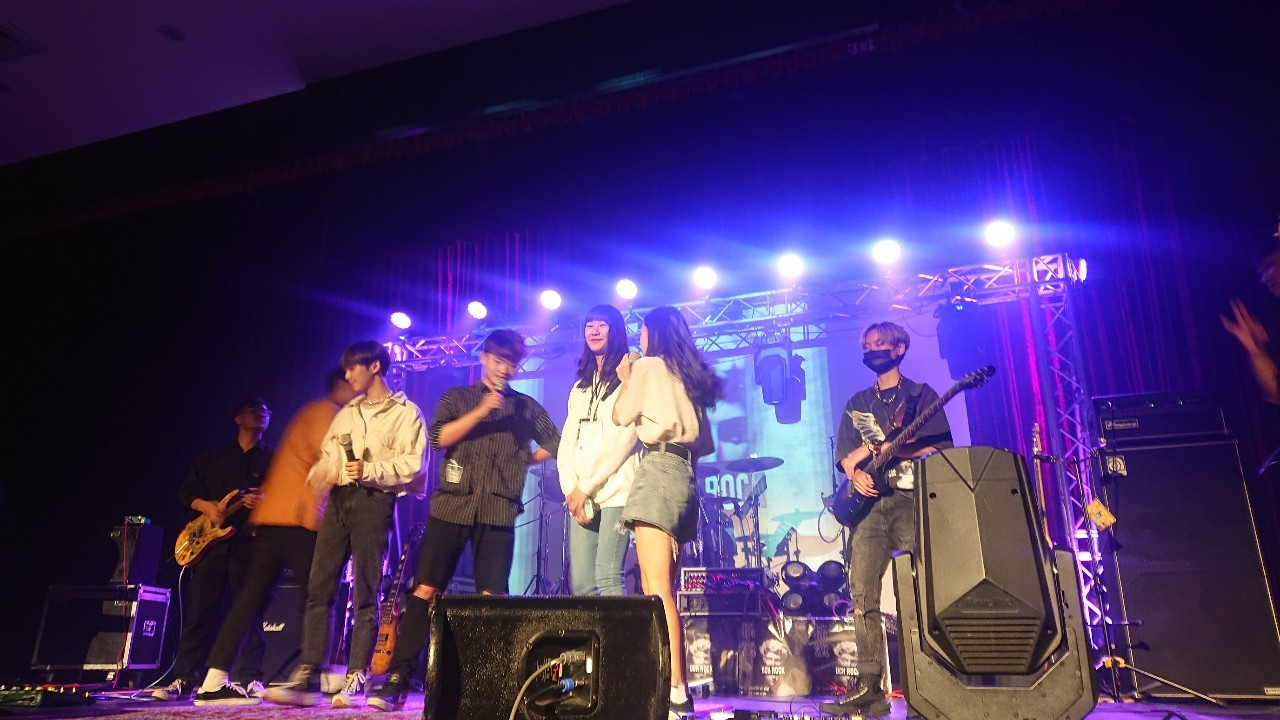people: (831, 320, 946, 713), (620, 311, 709, 713), (431, 326, 544, 587), (322, 347, 398, 704), (566, 306, 633, 598), (268, 369, 320, 687), (208, 384, 271, 567)
